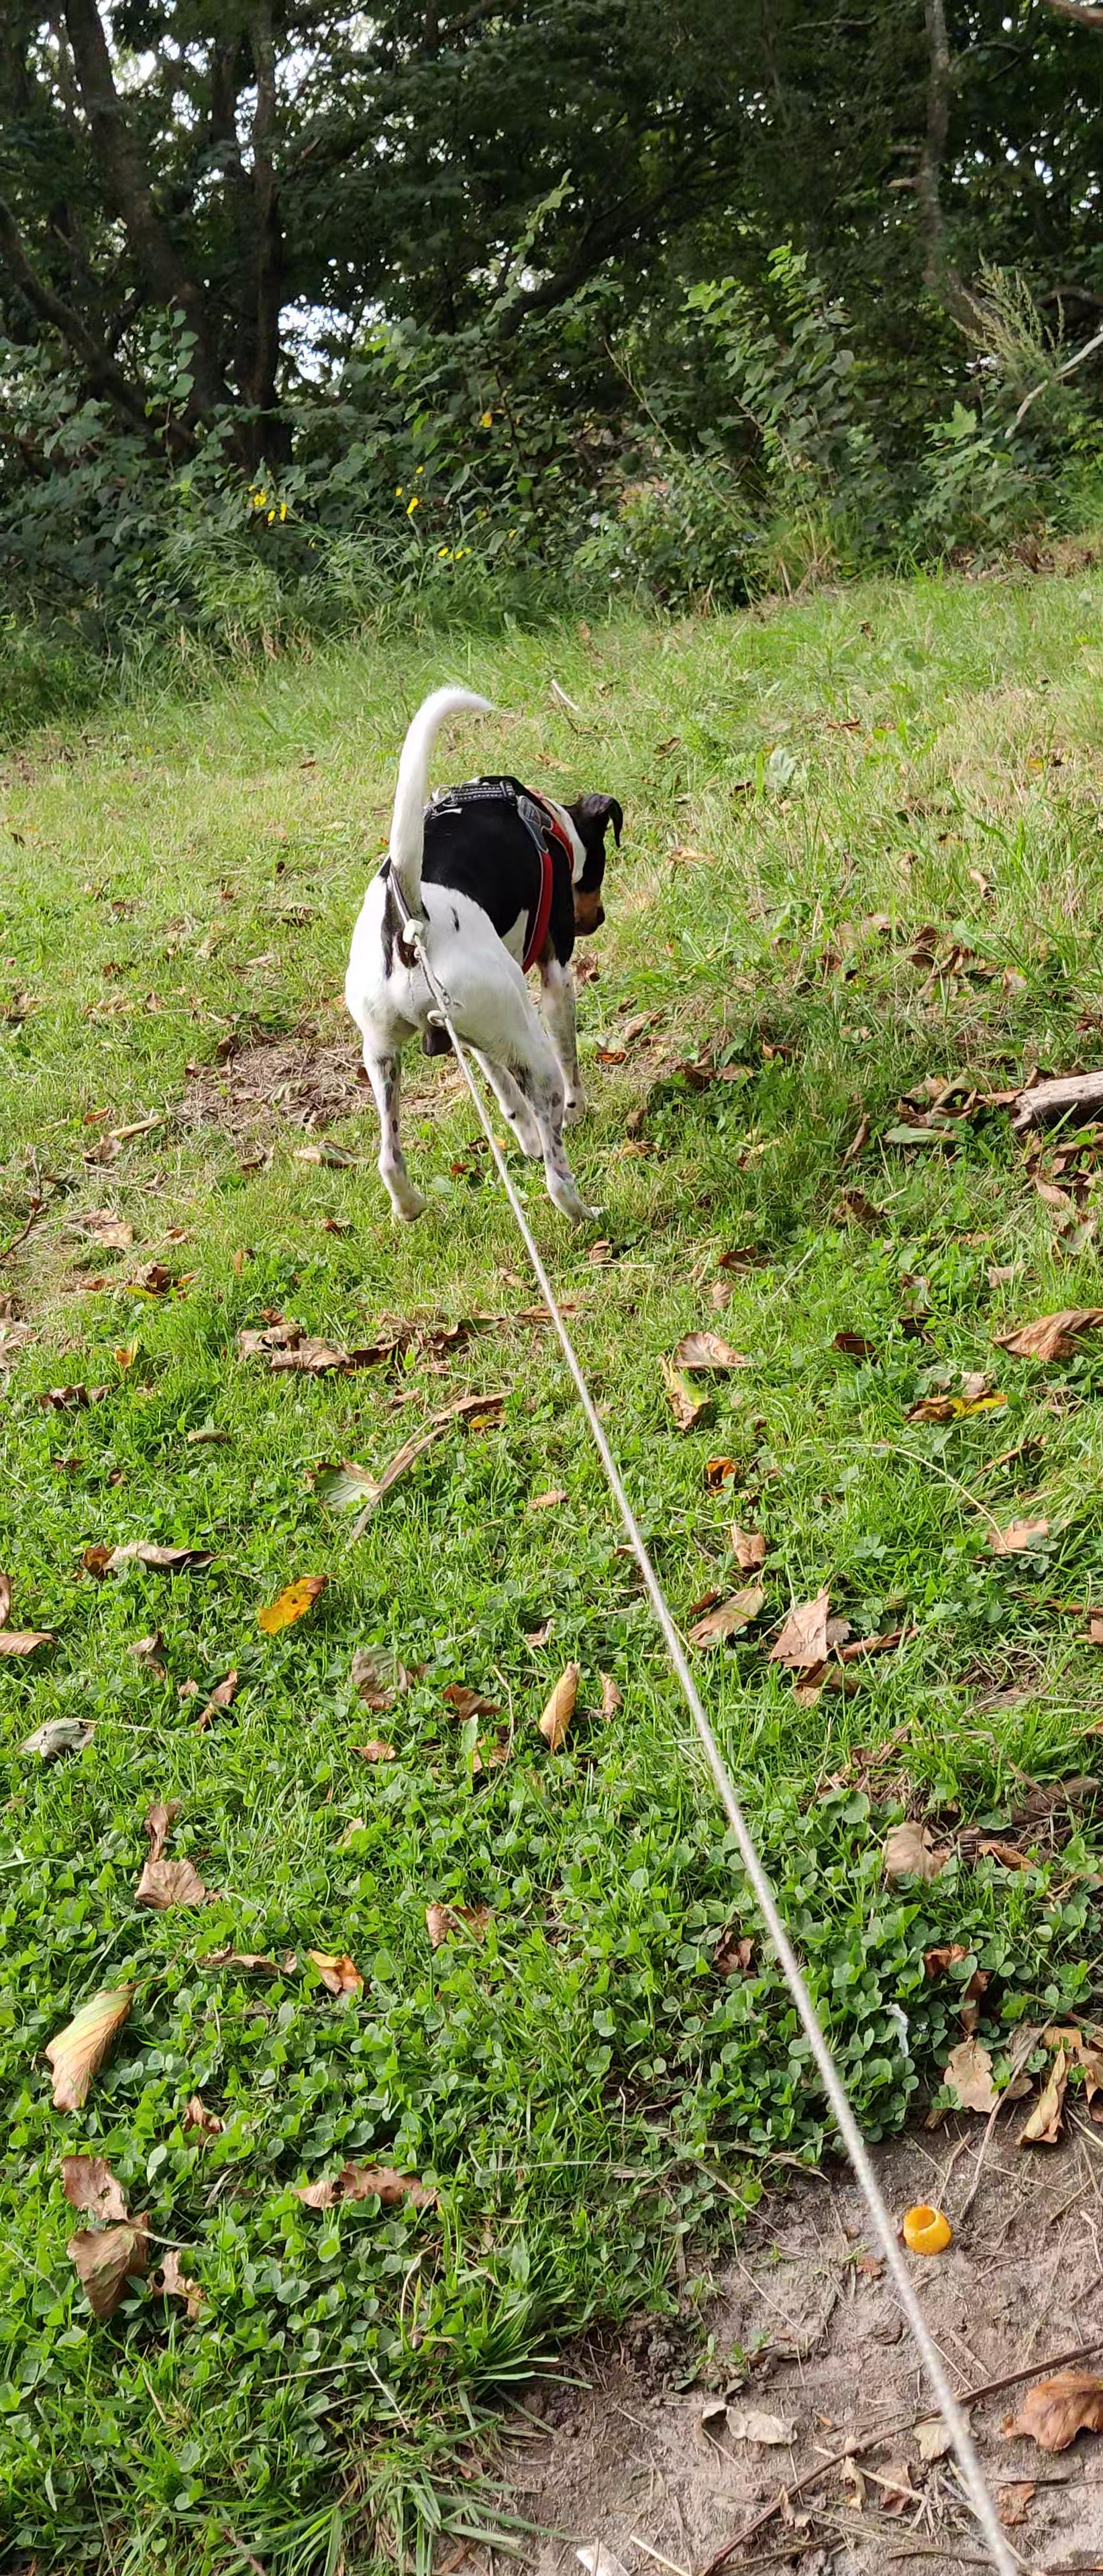Dog: (335, 672, 635, 1229)
